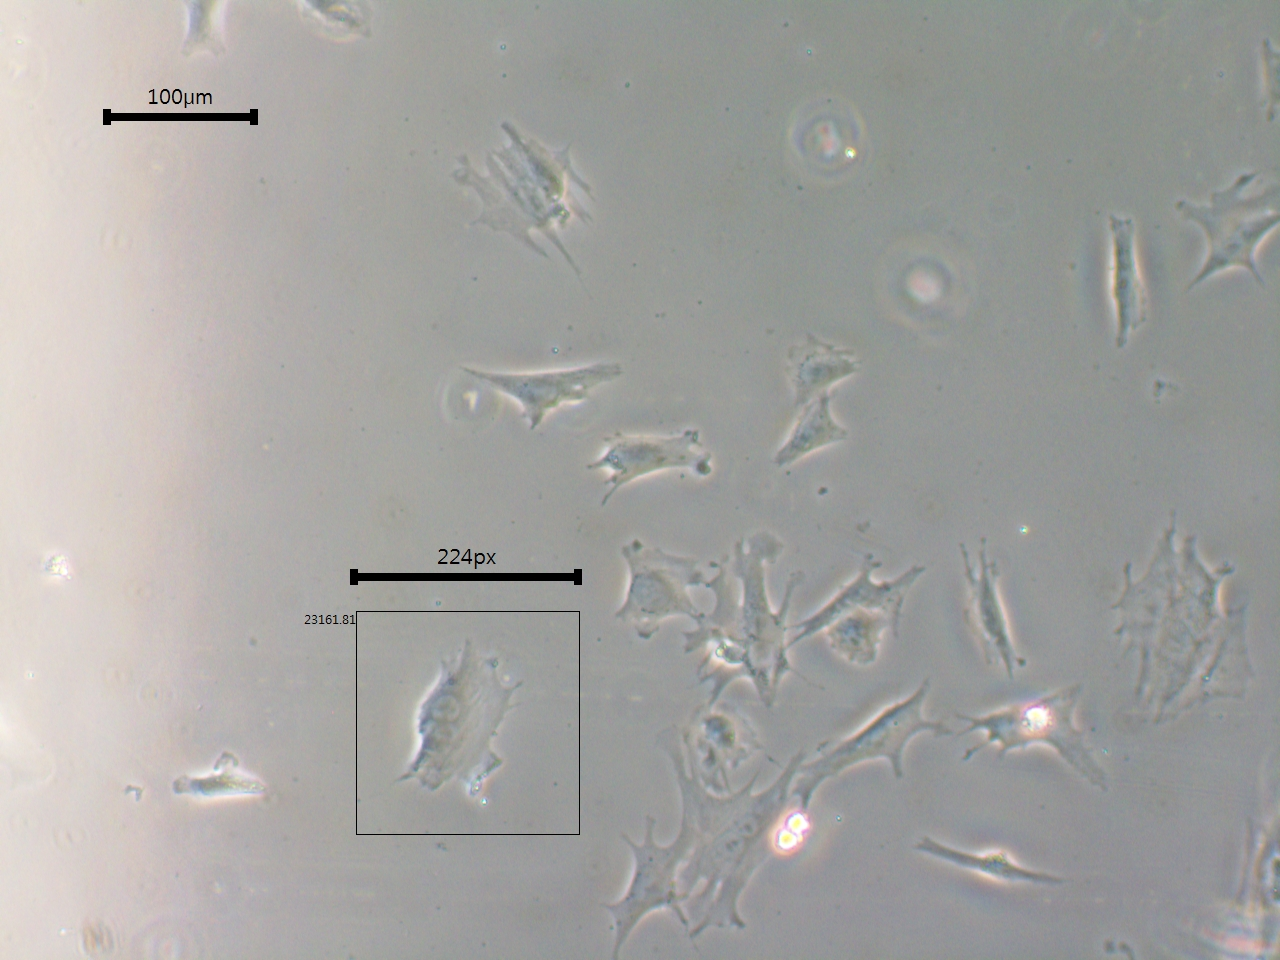dividing: (396, 631, 528, 811), (679, 776, 775, 943)
large-spread: (1096, 502, 1258, 741)
medium-polygonal: (795, 679, 946, 804), (458, 358, 638, 429), (902, 830, 1069, 901), (958, 539, 1032, 690), (577, 423, 711, 495)
medium-spread: (452, 115, 605, 281), (600, 537, 701, 637)
small-polygonal: (1104, 205, 1149, 364), (768, 400, 869, 471), (165, 752, 272, 809)
small-spread: (783, 324, 855, 408), (689, 697, 767, 762), (828, 609, 888, 667)
